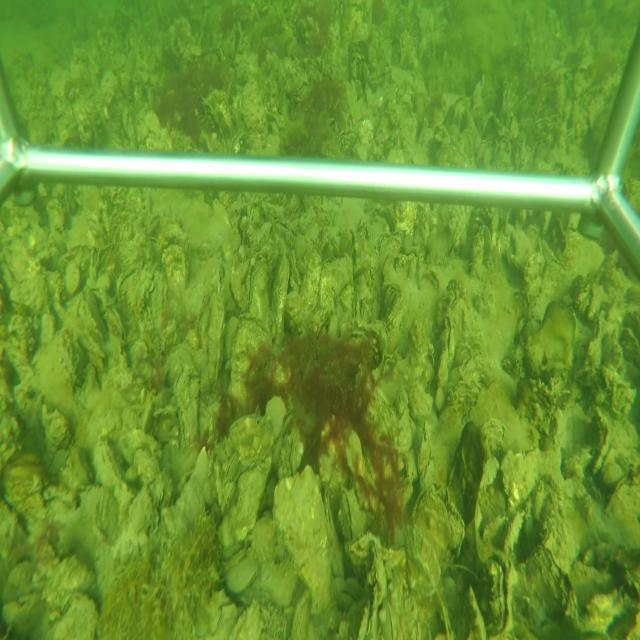Oyster-Closed: (406, 486, 465, 592), (161, 444, 209, 532), (201, 253, 228, 393), (228, 315, 271, 400), (47, 588, 100, 637), (112, 260, 153, 313), (162, 242, 190, 295), (248, 258, 270, 320), (438, 314, 456, 387), (216, 449, 237, 509), (341, 487, 362, 541), (292, 590, 312, 630), (379, 601, 395, 639)
Oyster-Indeterminate: (271, 462, 333, 608), (218, 435, 278, 554), (270, 247, 290, 353)
Oyster-Open: (481, 551, 515, 640)
